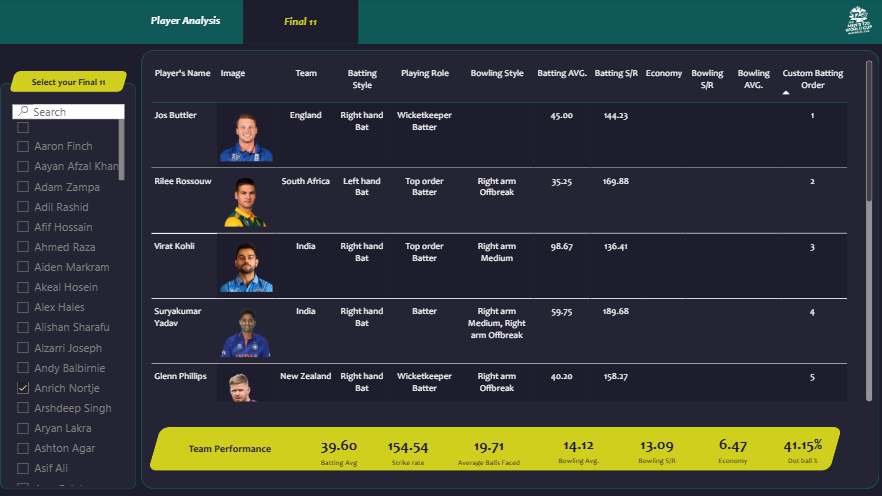

Layout of this report page (visuals, bound fields, positions):
{"tool":"powerbi","page":{"name":"New Final12","canvas":[1280,720],"ordinal":5},"visuals":[{"type":"shape","box":[0,66,1280,654],"z":0},{"type":"image","box":[1220,3,48,59],"z":1000},{"type":"shape","box":[7,122.9,196,585.1],"z":1000,"group":"g1"},{"type":"shape","box":[210.7,75.5,1063.4,632.2],"z":2000},{"type":"actionButton","title":"Button Player Ana selected","box":[357,0,166,66],"z":3000},{"type":"actionButton","title":"Button Player Ana selected","box":[191.4,0,165.7,65.7],"z":4000},{"type":"group","id":"g1","title":"Group 1","box":[7,122.9,196,585.1],"z":6000},{"type":"shape","box":[19.6,104.9,171.5,30.4],"z":7000},{"type":"pivotTable","fields":{"Values":["Min(dim_player.team)","Min(dim_player.Batting Style)","Min(dim_player.Playing Role)","Min(dim_player.Bowling Style)","Key_Measures.Bat Avg","Key_Measures.Strike rate","Key_Measures.Economy","Key_Measures.Bowling Strike Rate","Key_Measures.Bowling Average","Sum(dim_player.Custom Batting Order)"],"Rows":["dim_player.name","dim_player.image"]},"box":[219.9,85.4,1048,501.1],"z":8000},{"type":"shape","box":[219.9,618.4,999.7,63],"z":9000},{"type":"card","fields":{"Values":["Key_Measures.Strike rate"]},"box":[548.4,620.2,93,60],"z":10000},{"type":"slicer","fields":{"Values":["dim_player.name"]},"box":[19.7,149.3,170.5,558.7],"z":11000,"group":"g1"},{"type":"card","fields":{"Values":["Key_Measures.Avergate Balls Faced"]},"box":[657.3,621.9,109.5,56.9],"z":11000},{"type":"card","fields":{"Values":["Key_Measures.Bat Avg"]},"box":[449.4,620.2,92,60],"z":12000},{"type":"card","fields":{"Values":["Key_Measures.Bowling Strike Rate"]},"box":[907.4,618.4,92.3,60.4],"z":13000},{"type":"card","fields":{"Values":["Key_Measures.Economy"]},"box":[1012.6,618.4,100.9,60.4],"z":14000},{"type":"card","fields":{"Values":["Key_Measures.Dot ball %"]},"box":[1113.5,617.6,100.1,60.4],"z":15000},{"type":"card","fields":{"Values":["Key_Measures.Bowling Average"]},"box":[794.4,617.6,91.4,60.4],"z":16000},{"type":"shape","box":[251.8,632.1,172.5,34.3],"z":17000}]}

Visuals, with their boxes on the page's 1280x720 design canvas (x1, y1, x2, y2). These are canvas units, not pixel positions in the 882x496 screenshot, which may show the page scaled, cropped or inside an application window:
shape: 0, 66, 1280, 720
image: 1220, 3, 1268, 62
shape: 7, 123, 203, 708
shape: 211, 76, 1274, 708
"Button Player Ana selected" actionButton: 357, 0, 523, 66
"Button Player Ana selected" actionButton: 191, 0, 357, 66
"Group 1" group: 7, 123, 203, 708
shape: 20, 105, 191, 135
pivotTable - Min(dim_player.team) x Min(dim_player.Batting Style): 220, 85, 1268, 586
shape: 220, 618, 1220, 681
card - Key_Measures.Strike rate: 548, 620, 641, 680
slicer - dim_player.name: 20, 149, 190, 708
card - Key_Measures.Avergate Balls Faced: 657, 622, 767, 679
card - Key_Measures.Bat Avg: 449, 620, 541, 680
card - Key_Measures.Bowling Strike Rate: 907, 618, 1000, 679
card - Key_Measures.Economy: 1013, 618, 1114, 679
card - Key_Measures.Dot ball %: 1114, 618, 1214, 678
card - Key_Measures.Bowling Average: 794, 618, 886, 678
shape: 252, 632, 424, 666
